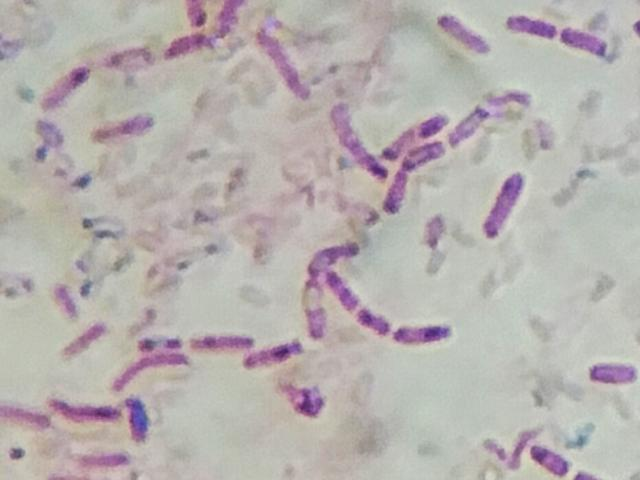E. coli: (325, 107, 376, 174), (481, 170, 528, 239), (433, 13, 492, 62), (36, 58, 94, 107), (378, 113, 445, 154), (258, 27, 297, 95), (395, 313, 455, 352), (111, 353, 191, 382), (559, 19, 609, 65), (98, 103, 155, 142), (301, 280, 330, 345), (505, 6, 558, 41), (449, 105, 490, 150), (403, 138, 446, 180), (111, 397, 153, 439), (328, 266, 361, 319), (312, 240, 365, 273), (379, 165, 409, 221), (588, 359, 640, 391), (63, 319, 104, 359), (6, 397, 49, 433), (195, 323, 248, 352), (359, 305, 397, 343), (51, 393, 106, 419), (246, 343, 307, 365), (169, 32, 216, 59), (214, 2, 248, 37), (78, 450, 131, 472), (176, 3, 219, 29), (111, 40, 146, 71), (528, 443, 560, 474), (55, 275, 76, 320), (573, 464, 599, 480), (431, 219, 432, 219)
